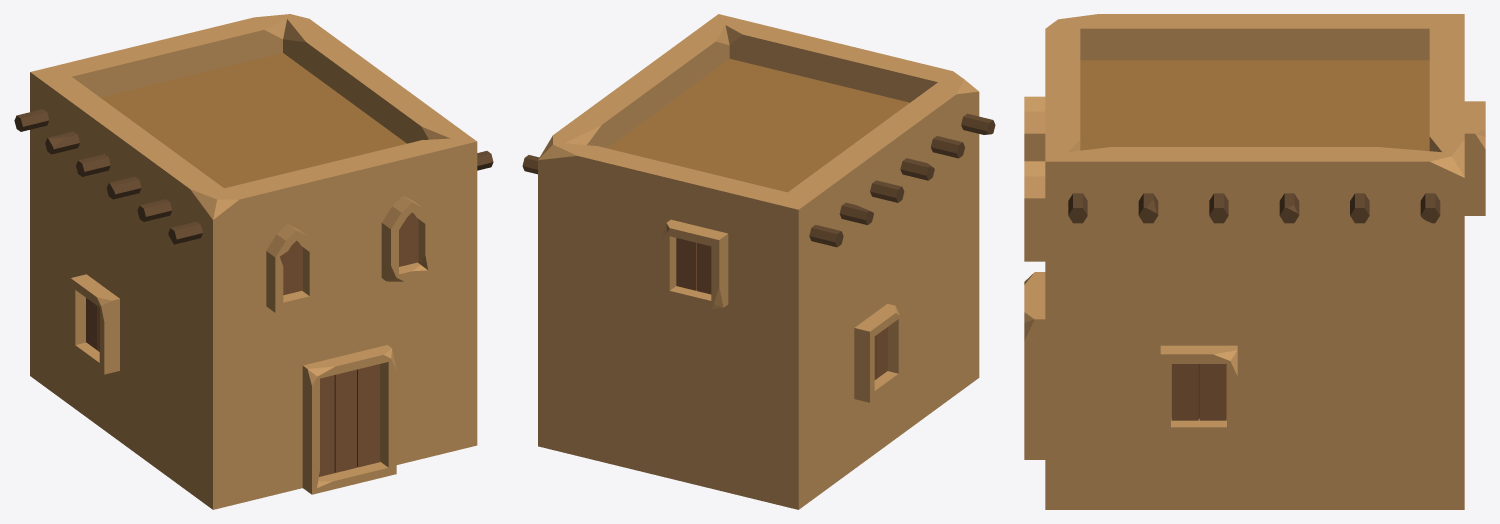
The model's file is house-egypt-small.glb.
3 views of the same model, side by side, from view 1: azimuth 30°, elevation 25°; view 2: azimuth 150°, elevation 25°; view 3: azimuth 270°, elevation 25° (orthographic). The views are drawn at different scales.
Visible parts, largest first — view 1: house-egypt-small; view 2: house-egypt-small; view 3: house-egypt-small.
Part boxes in pixels (x1=…): house-egypt-small: x1=14, y1=14, x2=493, y2=509; house-egypt-small: x1=522, y1=14, x2=995, y2=509; house-egypt-small: x1=1024, y1=14, x2=1485, y2=509.
Bounding box in the file's own units: 6 × 5.5 × 6.6.
Materials: 1 (1 with a texture image).
